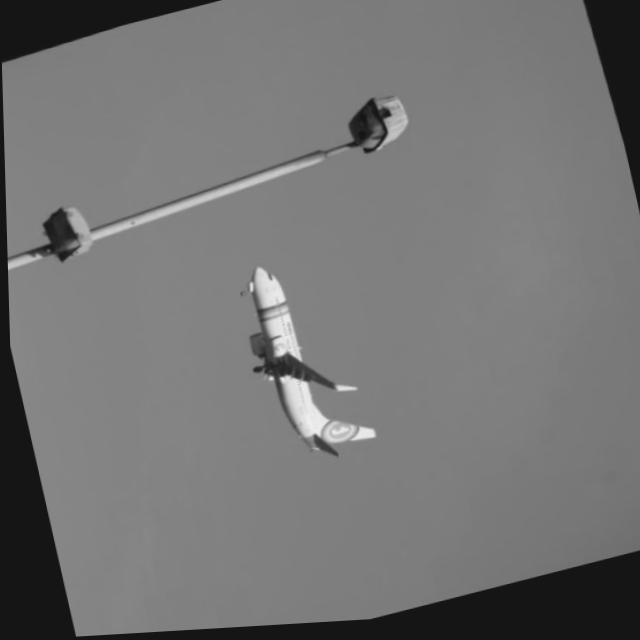aeroplane: (223, 249, 381, 485)
